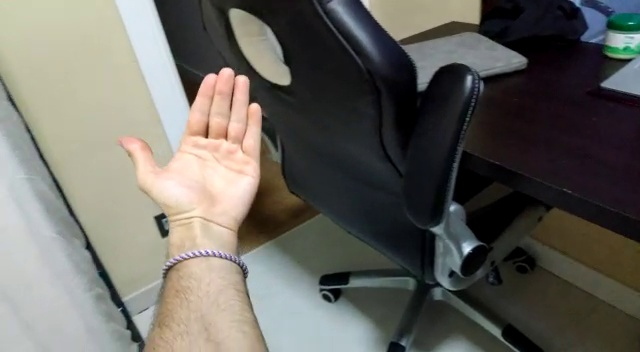Palm: (115, 62, 266, 236)
